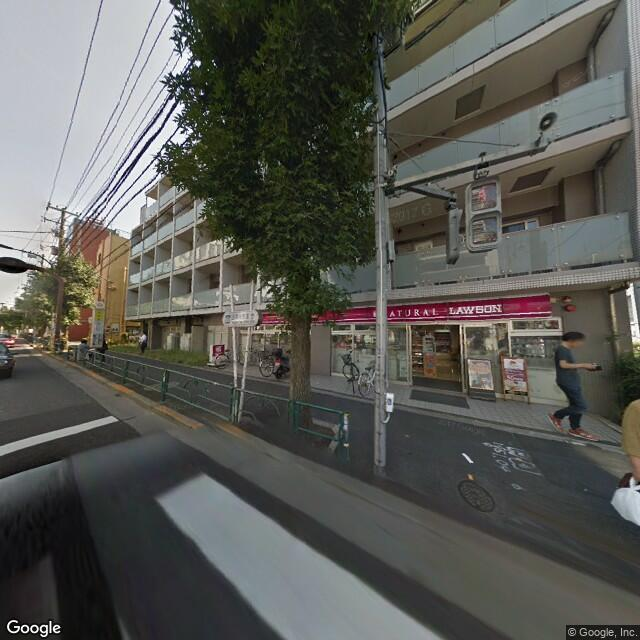lawson: (332, 292, 553, 326)
